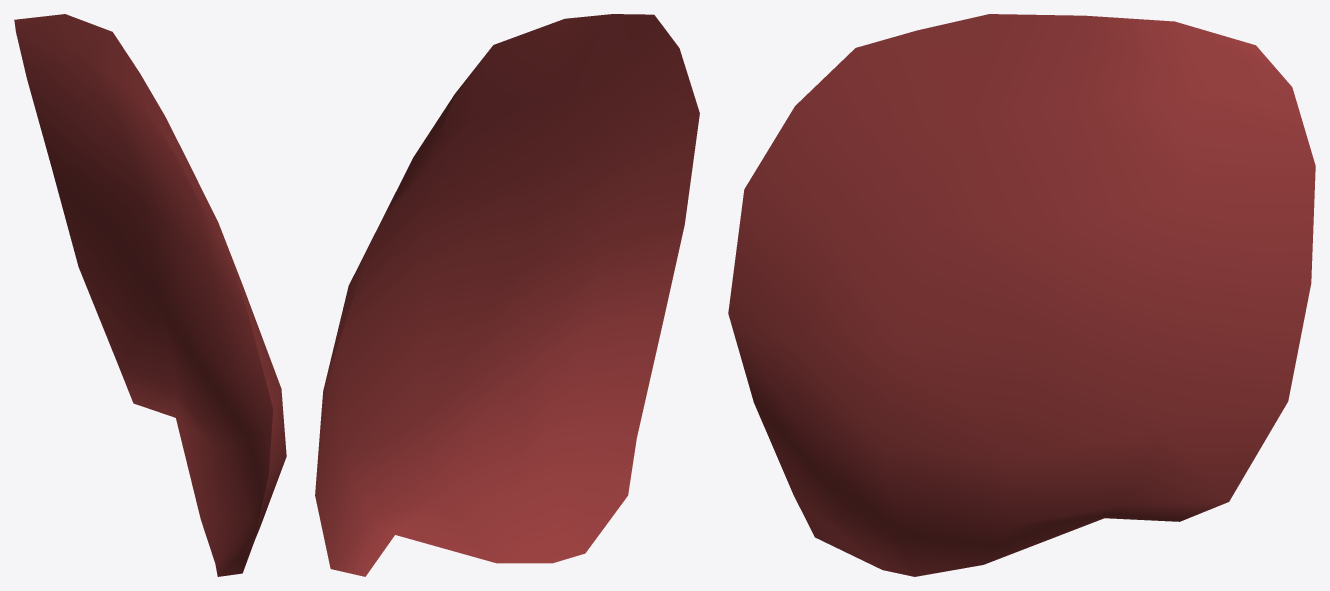
File: subcutaneous-bursa-of-medial-malleolus-r.glb
3 renders of one model, left to right at view 1: azimuth 30°, elevation 25°; view 2: azimuth 150°, elevation 25°; view 3: azimuth 270°, elevation 25°, orthographic. The views are drawn at different scales.
Parts seen in each view (by area): view 1: Subcutaneous bursa of medial malleolus.r; view 2: Subcutaneous bursa of medial malleolus.r; view 3: Subcutaneous bursa of medial malleolus.r.
Part boxes in pixels (left/top/right/bottom): Subcutaneous bursa of medial malleolus.r: left=14, top=14, right=286, bottom=576; Subcutaneous bursa of medial malleolus.r: left=315, top=14, right=699, bottom=576; Subcutaneous bursa of medial malleolus.r: left=728, top=14, right=1315, bottom=576.
Bounding box in the file's own units: 0.00596 × 0.0238 × 0.0232.
